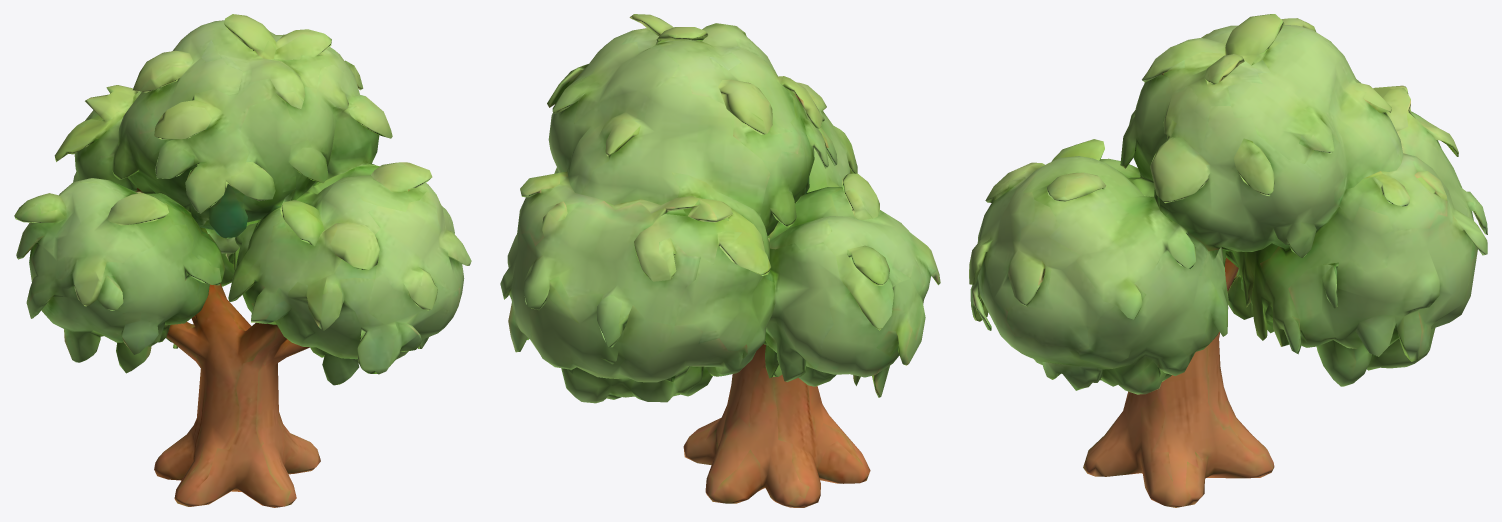
File: apple.glb
3 renders of one model, left to right at view 1: azimuth 30°, elevation 25°; view 2: azimuth 150°, elevation 25°; view 3: azimuth 270°, elevation 25°, orthographic. The views are drawn at different scales.
Visible parts, largest first — view 1: textured_mesh.obj; view 2: textured_mesh.obj; view 3: textured_mesh.obj.
Part boxes in pixels (<box>): textured_mesh.obj: <box>14,14,471,507</box>; textured_mesh.obj: <box>500,14,940,507</box>; textured_mesh.obj: <box>969,14,1487,507</box>.
Size of what is drawn, in the model's own units: 2.58 by 2.9 by 2.9.
1 material, 1 textured.
